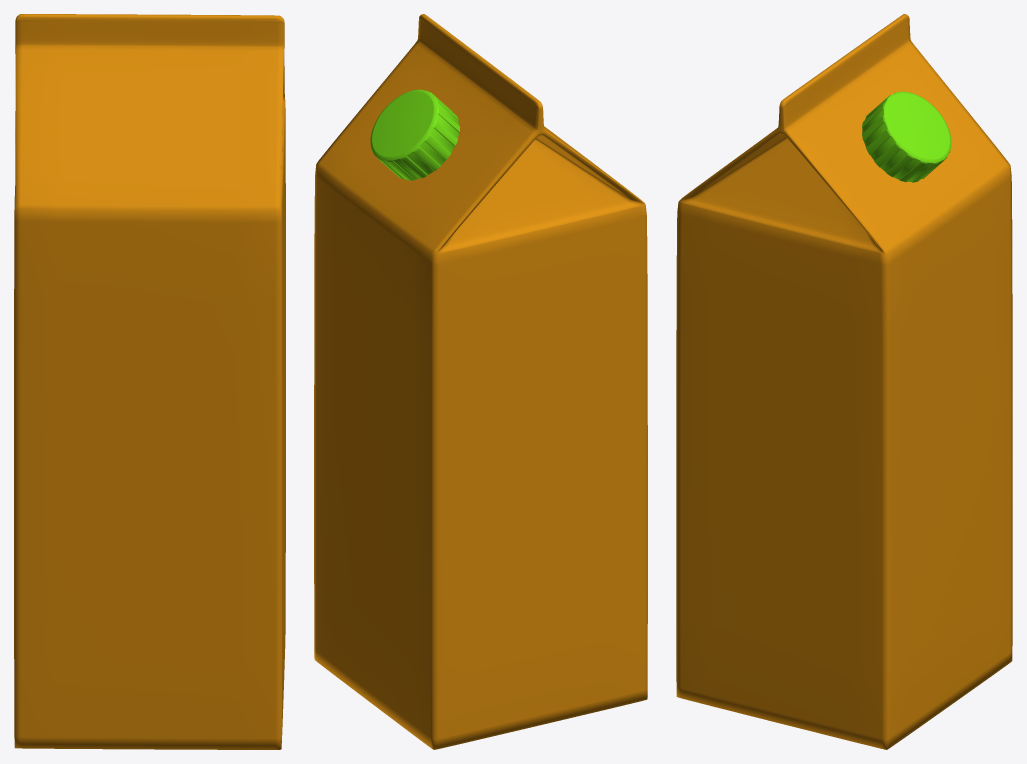
File: tetrapak.fbx
The picture shows the model from 3 angles, left to right: view 1: azimuth 30°, elevation 25°; view 2: azimuth 150°, elevation 25°; view 3: azimuth 270°, elevation 25°; orthographic projection. The views are drawn at different scales.
Visible parts, largest first — view 1: tetrapak; view 2: tetrapak, cap; view 3: tetrapak, cap.
Boxes of the visible parts, left/top/right/bottom form: tetrapak: left=14, top=14, right=285, bottom=749; tetrapak: left=314, top=14, right=647, bottom=749; cap: left=370, top=89, right=459, bottom=180; tetrapak: left=676, top=14, right=1012, bottom=749; cap: left=862, top=91, right=951, bottom=182.
Size of the model in its own units: 272 by 557 by 272.
